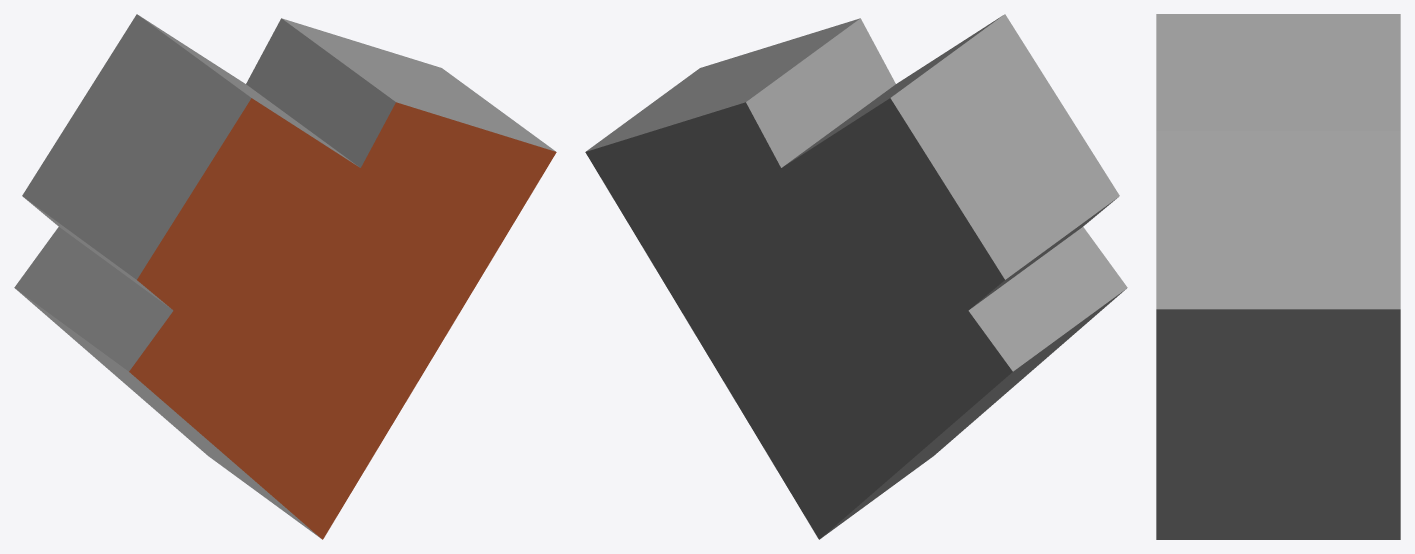
Rendered from construction_4016_assumed_A_Casa_h6m.obj.
3 renders of one model, left to right at view 1: azimuth 30°, elevation 25°; view 2: azimuth 150°, elevation 25°; view 3: azimuth 270°, elevation 25°, orthographic. The views are drawn at different scales.
Visible parts, largest first — view 1: construction_4016_assumed_A_Casa; view 2: construction_4016_assumed_A_Casa; view 3: construction_4016_assumed_A_Casa.
Boxes of the visible parts, x1,y1,x2,y2 form: construction_4016_assumed_A_Casa: (14,14,556,539); construction_4016_assumed_A_Casa: (585,14,1127,539); construction_4016_assumed_A_Casa: (1156,14,1400,539).
Size of the model in its own units: 12.91 by 13.25 by 6.
